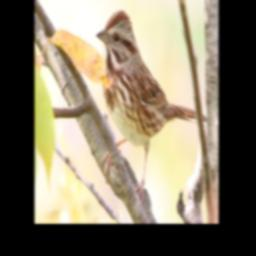Sparrow: (94, 6, 209, 206)
